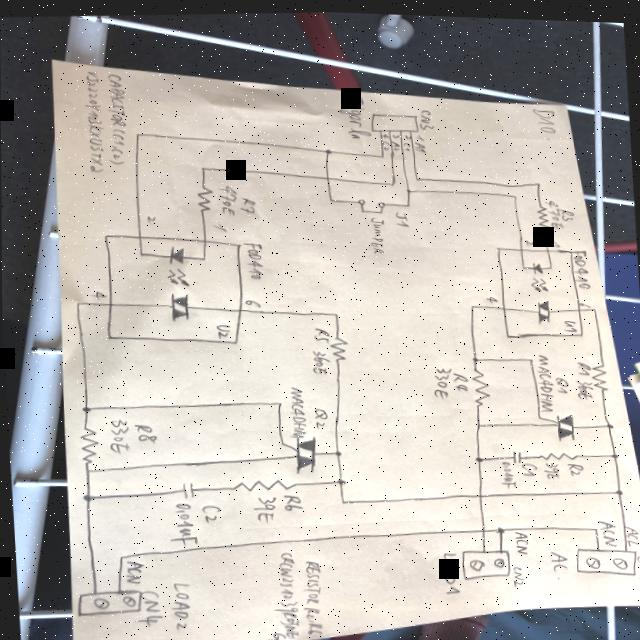capacitor: (180, 478, 197, 498), (511, 444, 524, 460)
crossover: (324, 172, 331, 178), (480, 524, 486, 529), (476, 490, 482, 494)
junction: (82, 487, 98, 503), (495, 521, 506, 531), (474, 450, 484, 460), (133, 128, 143, 138), (470, 350, 481, 359), (81, 403, 91, 412), (336, 474, 346, 483), (117, 551, 127, 560), (73, 297, 83, 306), (609, 446, 620, 454), (614, 483, 622, 491), (591, 520, 599, 528), (334, 447, 343, 454), (339, 495, 347, 502), (275, 397, 283, 404), (605, 417, 613, 424), (199, 163, 207, 170), (325, 145, 333, 151), (332, 308, 340, 314), (475, 418, 483, 424), (469, 299, 477, 305), (527, 352, 535, 358), (328, 194, 335, 200), (535, 176, 542, 182), (406, 184, 413, 190), (512, 189, 519, 195), (85, 466, 91, 473), (414, 172, 421, 177), (406, 199, 412, 204), (390, 178, 396, 183), (379, 150, 385, 155), (591, 301, 597, 306)
resistor: (230, 471, 300, 492), (78, 423, 101, 466), (470, 363, 492, 404), (589, 356, 610, 388), (329, 331, 350, 360), (195, 182, 215, 211), (536, 445, 579, 458), (536, 197, 551, 227)
switch: (358, 194, 387, 210)
terminal: (574, 537, 640, 577), (74, 583, 145, 618), (458, 540, 515, 579), (369, 106, 420, 131)
text: (259, 547, 304, 640), (82, 66, 107, 173), (104, 69, 129, 165), (299, 555, 326, 635), (337, 92, 373, 138), (167, 497, 199, 546), (534, 346, 556, 408), (168, 578, 194, 630), (131, 587, 164, 627), (287, 380, 308, 437), (106, 416, 131, 454), (569, 243, 591, 285), (243, 238, 266, 278), (440, 546, 460, 592), (429, 361, 454, 397), (251, 492, 279, 521), (218, 181, 239, 214), (369, 213, 386, 251), (122, 557, 145, 584), (544, 194, 564, 225), (598, 513, 618, 543), (548, 543, 571, 569), (133, 421, 158, 443), (310, 345, 330, 371), (513, 525, 531, 551), (500, 455, 516, 484), (280, 490, 303, 510), (452, 366, 471, 390), (200, 501, 221, 521), (575, 373, 594, 395), (238, 193, 258, 213), (542, 455, 561, 476), (419, 104, 436, 127), (623, 520, 640, 543), (312, 404, 329, 426), (520, 456, 539, 474), (394, 205, 411, 225), (555, 370, 571, 391), (312, 323, 331, 340), (566, 456, 585, 472), (214, 321, 231, 338), (512, 560, 525, 582), (576, 357, 591, 373), (561, 314, 578, 327), (561, 203, 576, 217), (210, 219, 227, 231), (412, 136, 427, 149), (92, 288, 107, 299), (245, 296, 261, 306), (391, 136, 402, 149), (486, 291, 499, 300), (547, 234, 560, 243), (146, 212, 156, 222), (579, 295, 591, 303), (414, 129, 424, 138), (402, 138, 411, 148), (381, 138, 390, 148), (637, 548, 640, 576), (525, 234, 535, 242), (381, 129, 390, 135), (392, 129, 399, 136), (404, 129, 411, 135)
